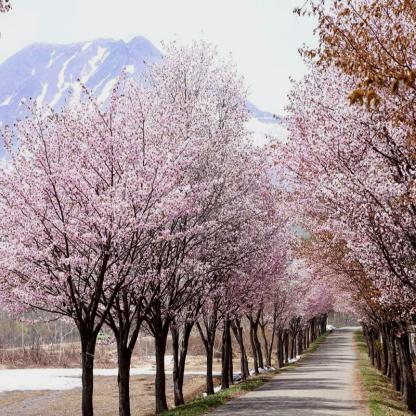Someiyoshino: (3, 46, 236, 320), (291, 70, 414, 321), (242, 139, 327, 317)
